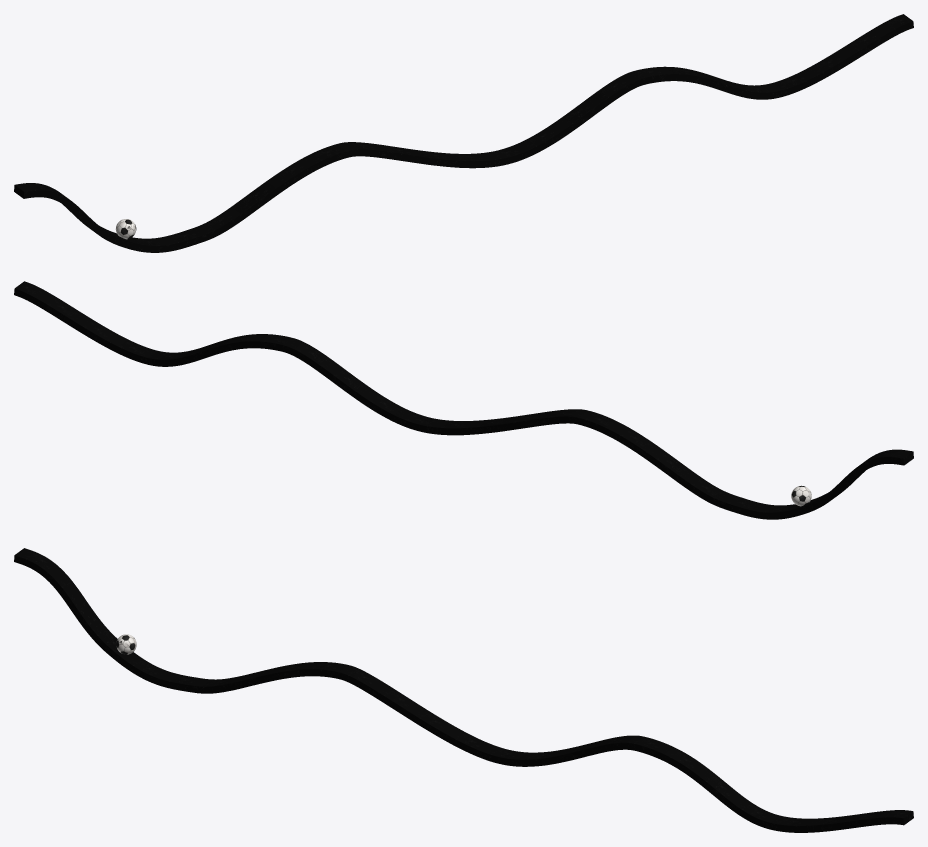
The model's file is RollercoasterCamera-optimized.glb.
3 renders of one model, top to bottom at view 1: azimuth 30°, elevation 25°; view 2: azimuth 150°, elevation 25°; view 3: azimuth 330°, elevation 25°, orthographic.
Visible parts, largest first — view 1: Platform; view 2: Platform; view 3: Platform.
Part boxes in pixels (x1,y1,x2,y2): Platform: (14, 14, 913, 252); Platform: (14, 281, 913, 519); Platform: (14, 548, 913, 832).
Bounding box in the file's own units: 99.49 × 10.22 × 1.99.
Materials: 2 (2 with a texture image).
